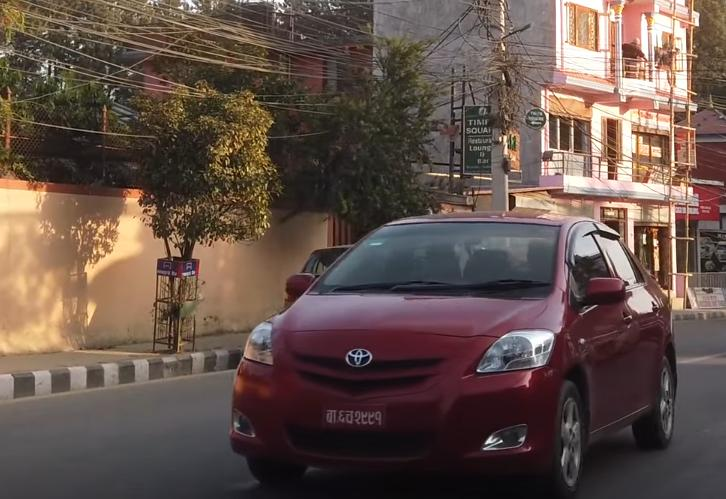car: (231, 200, 683, 494)
